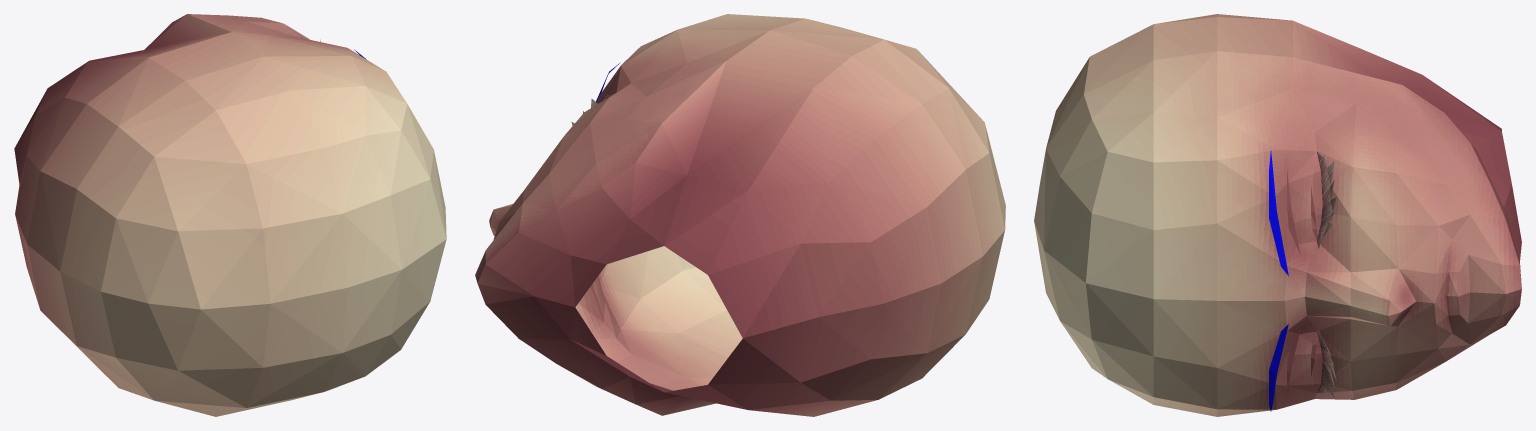
File: Npc_60065.obj
The picture shows the model from 3 angles, left to right: view 1: azimuth 30°, elevation 25°; view 2: azimuth 150°, elevation 25°; view 3: azimuth 270°, elevation 25°; orthographic projection. The views are drawn at different scales.
Parts seen in each view (by area): view 1: Npc_60065; view 2: Npc_60065; view 3: Npc_60065.
Part boxes in pixels (bbox=[...]): Npc_60065: bbox=[14, 14, 446, 416]; Npc_60065: bbox=[475, 14, 1005, 416]; Npc_60065: bbox=[1034, 14, 1521, 416].
Size of the model in its own units: 0.4194 by 0.342 by 0.441.
2 materials, 1 textured.
